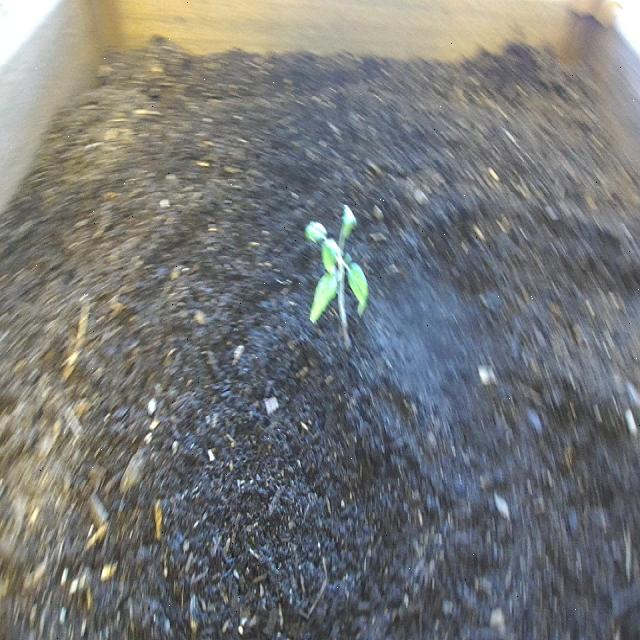Healthy: (297, 192, 379, 365)
